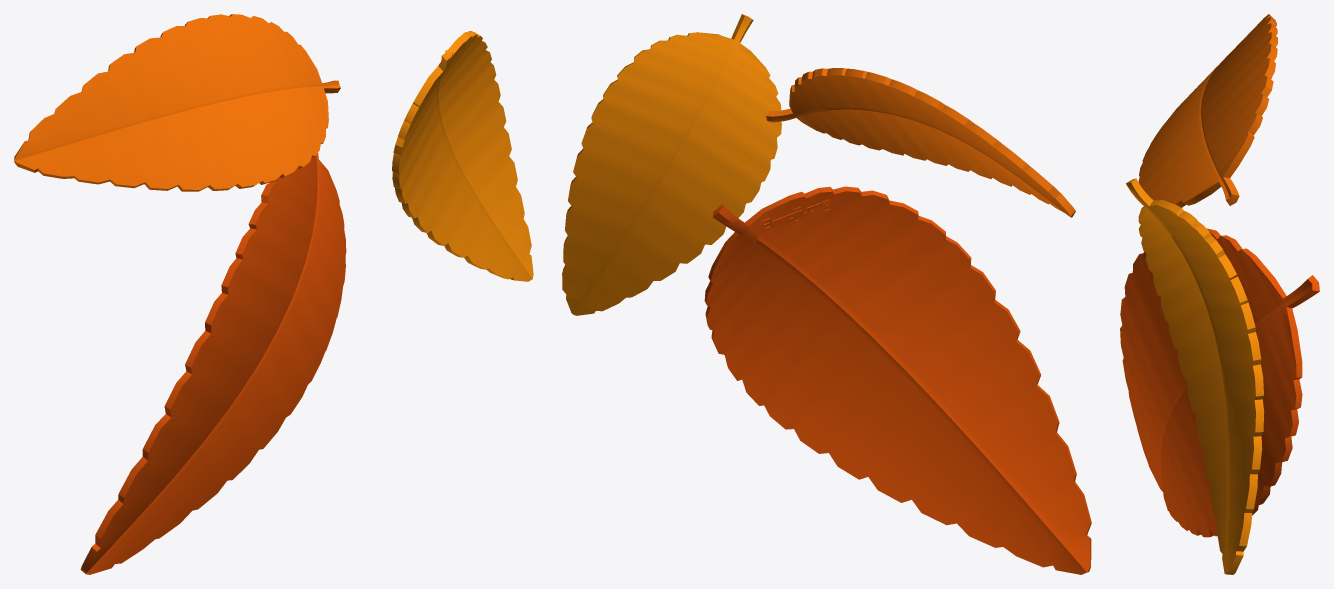
File: fallen_leaf.glb
3 views of the same model, side by side, from view 1: azimuth 30°, elevation 25°; view 2: azimuth 150°, elevation 25°; view 3: azimuth 270°, elevation 25° (orthographic). The views are drawn at different scales.
Visible parts, largest first — view 1: Circle.2094; view 2: Circle.2094; view 3: Circle.2094.
Part boxes in pixels (x1,y1,x2,y2): Circle.2094: (14, 14, 533, 574); Circle.2094: (562, 14, 1091, 574); Circle.2094: (1120, 14, 1319, 574).
Bounding box in the file's own units: 2.27 × 2.07 × 0.6844.
1 material, 1 textured.
